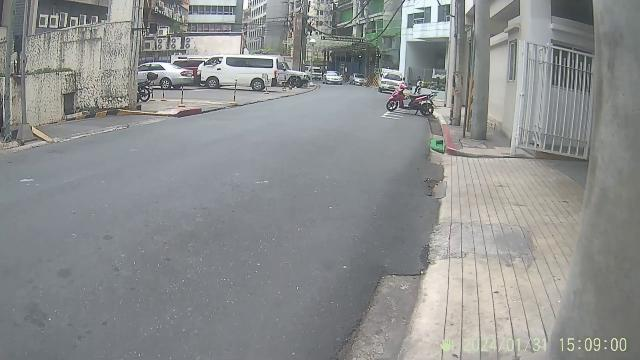utility_post: (452, 0, 496, 142)
